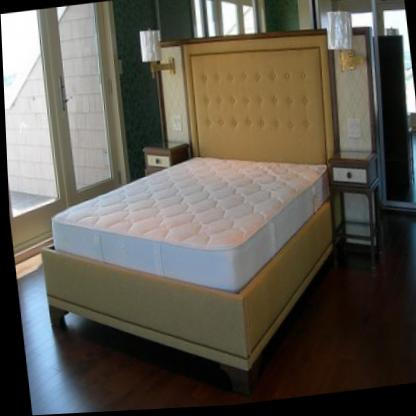Bed: (16, 25, 366, 415)
